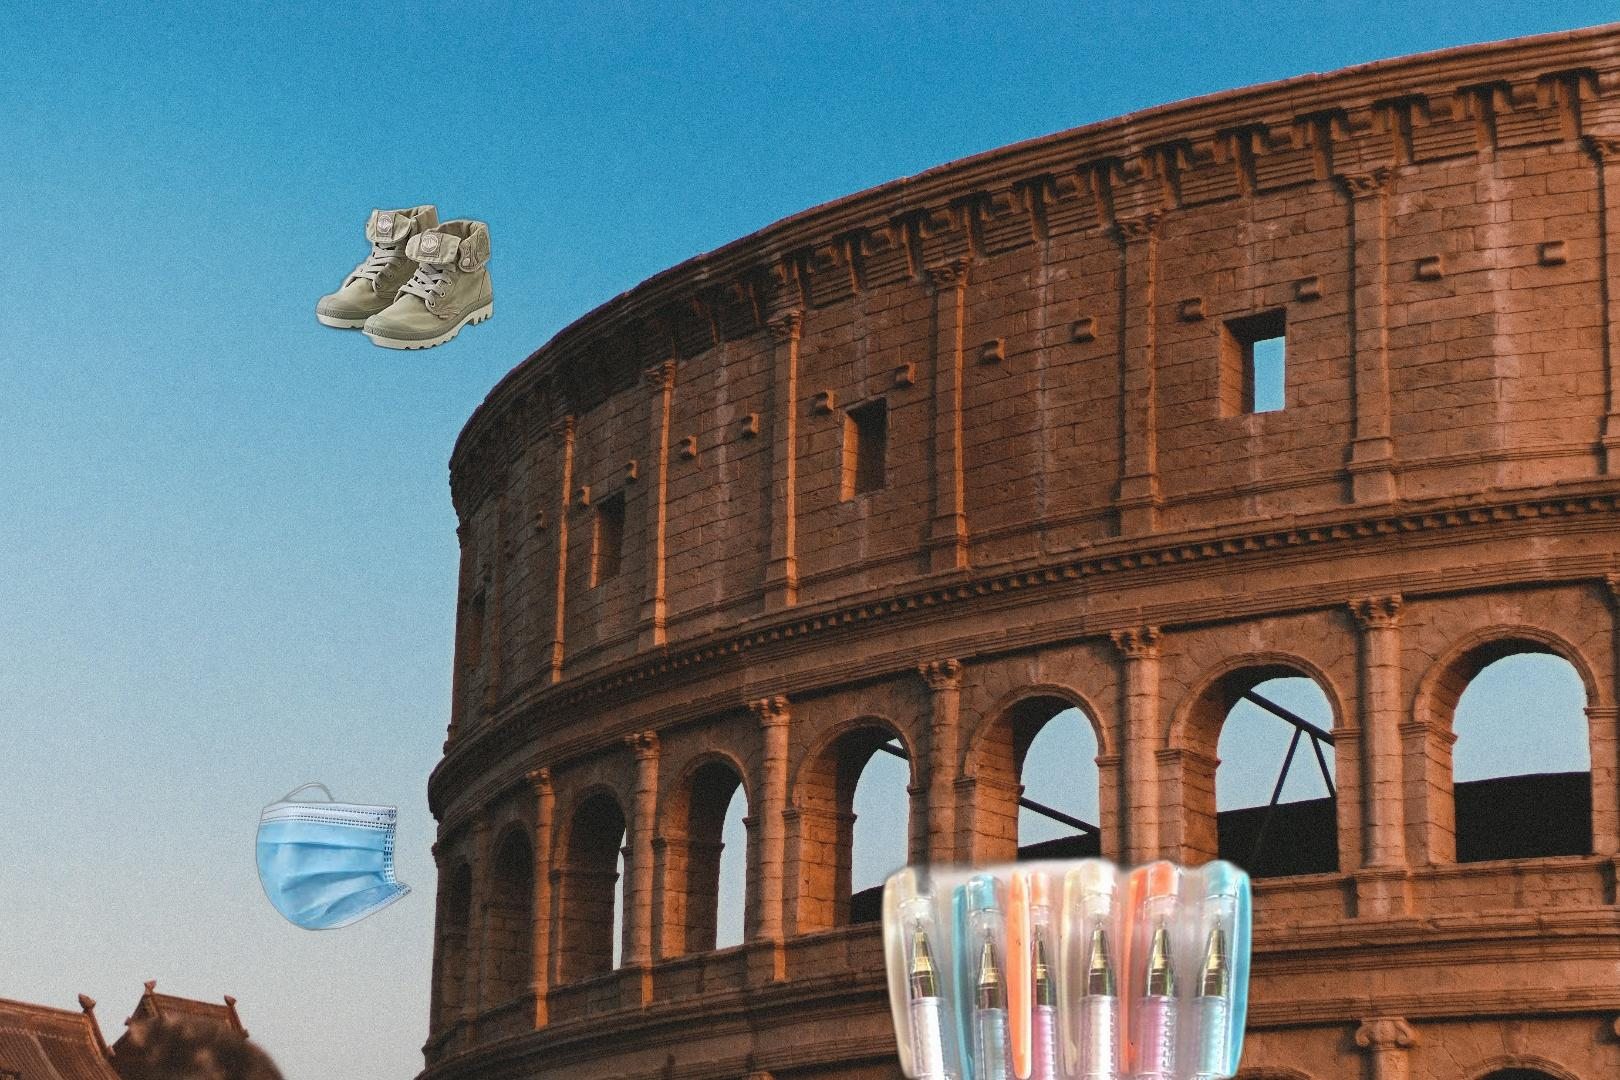penholder: (873, 845, 1260, 1080)
shoes: (313, 199, 495, 353)
trash: (253, 780, 413, 933)
